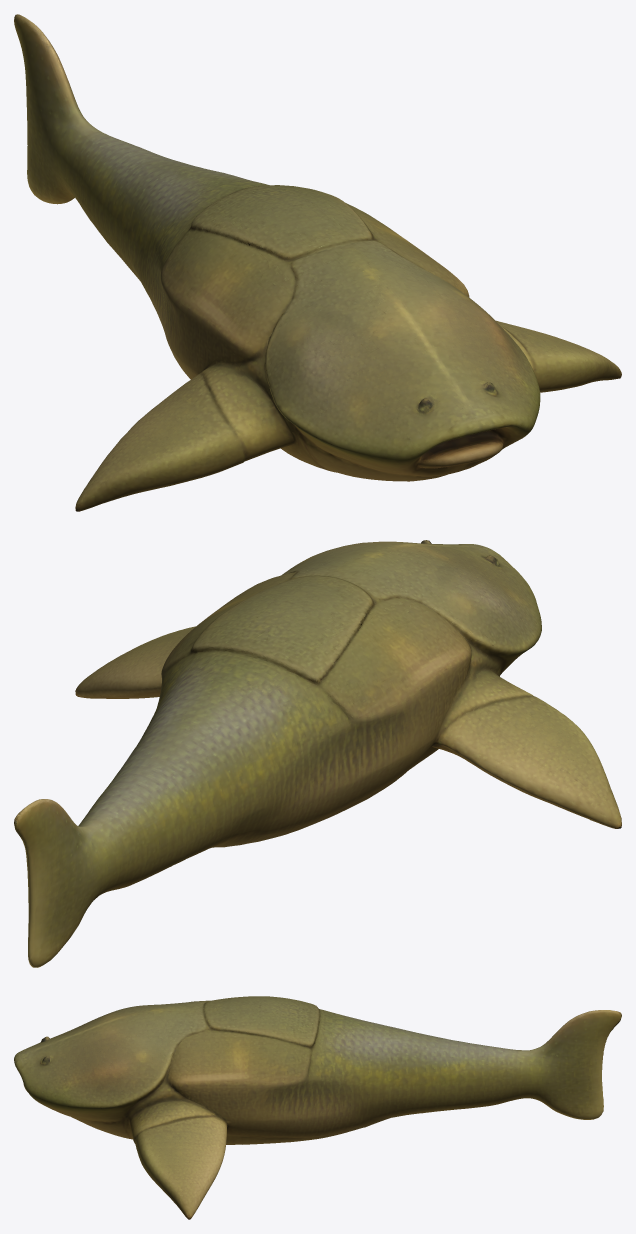
3 views of the same model, one above another, from view 1: azimuth 30°, elevation 25°; view 2: azimuth 150°, elevation 25°; view 3: azimuth 270°, elevation 25° (orthographic). The views are drawn at different scales.
Parts seen in each view (by area): view 1: world; view 2: world; view 3: world.
Boxes of the visible parts, x1,y1,x2,y2 form: world: (14,14,621,511); world: (14,540,621,967); world: (14,996,621,1219).
Size of the model in its own units: 0.3366 by 0.1178 by 0.5.
Materials: 1 (1 with a texture image).
